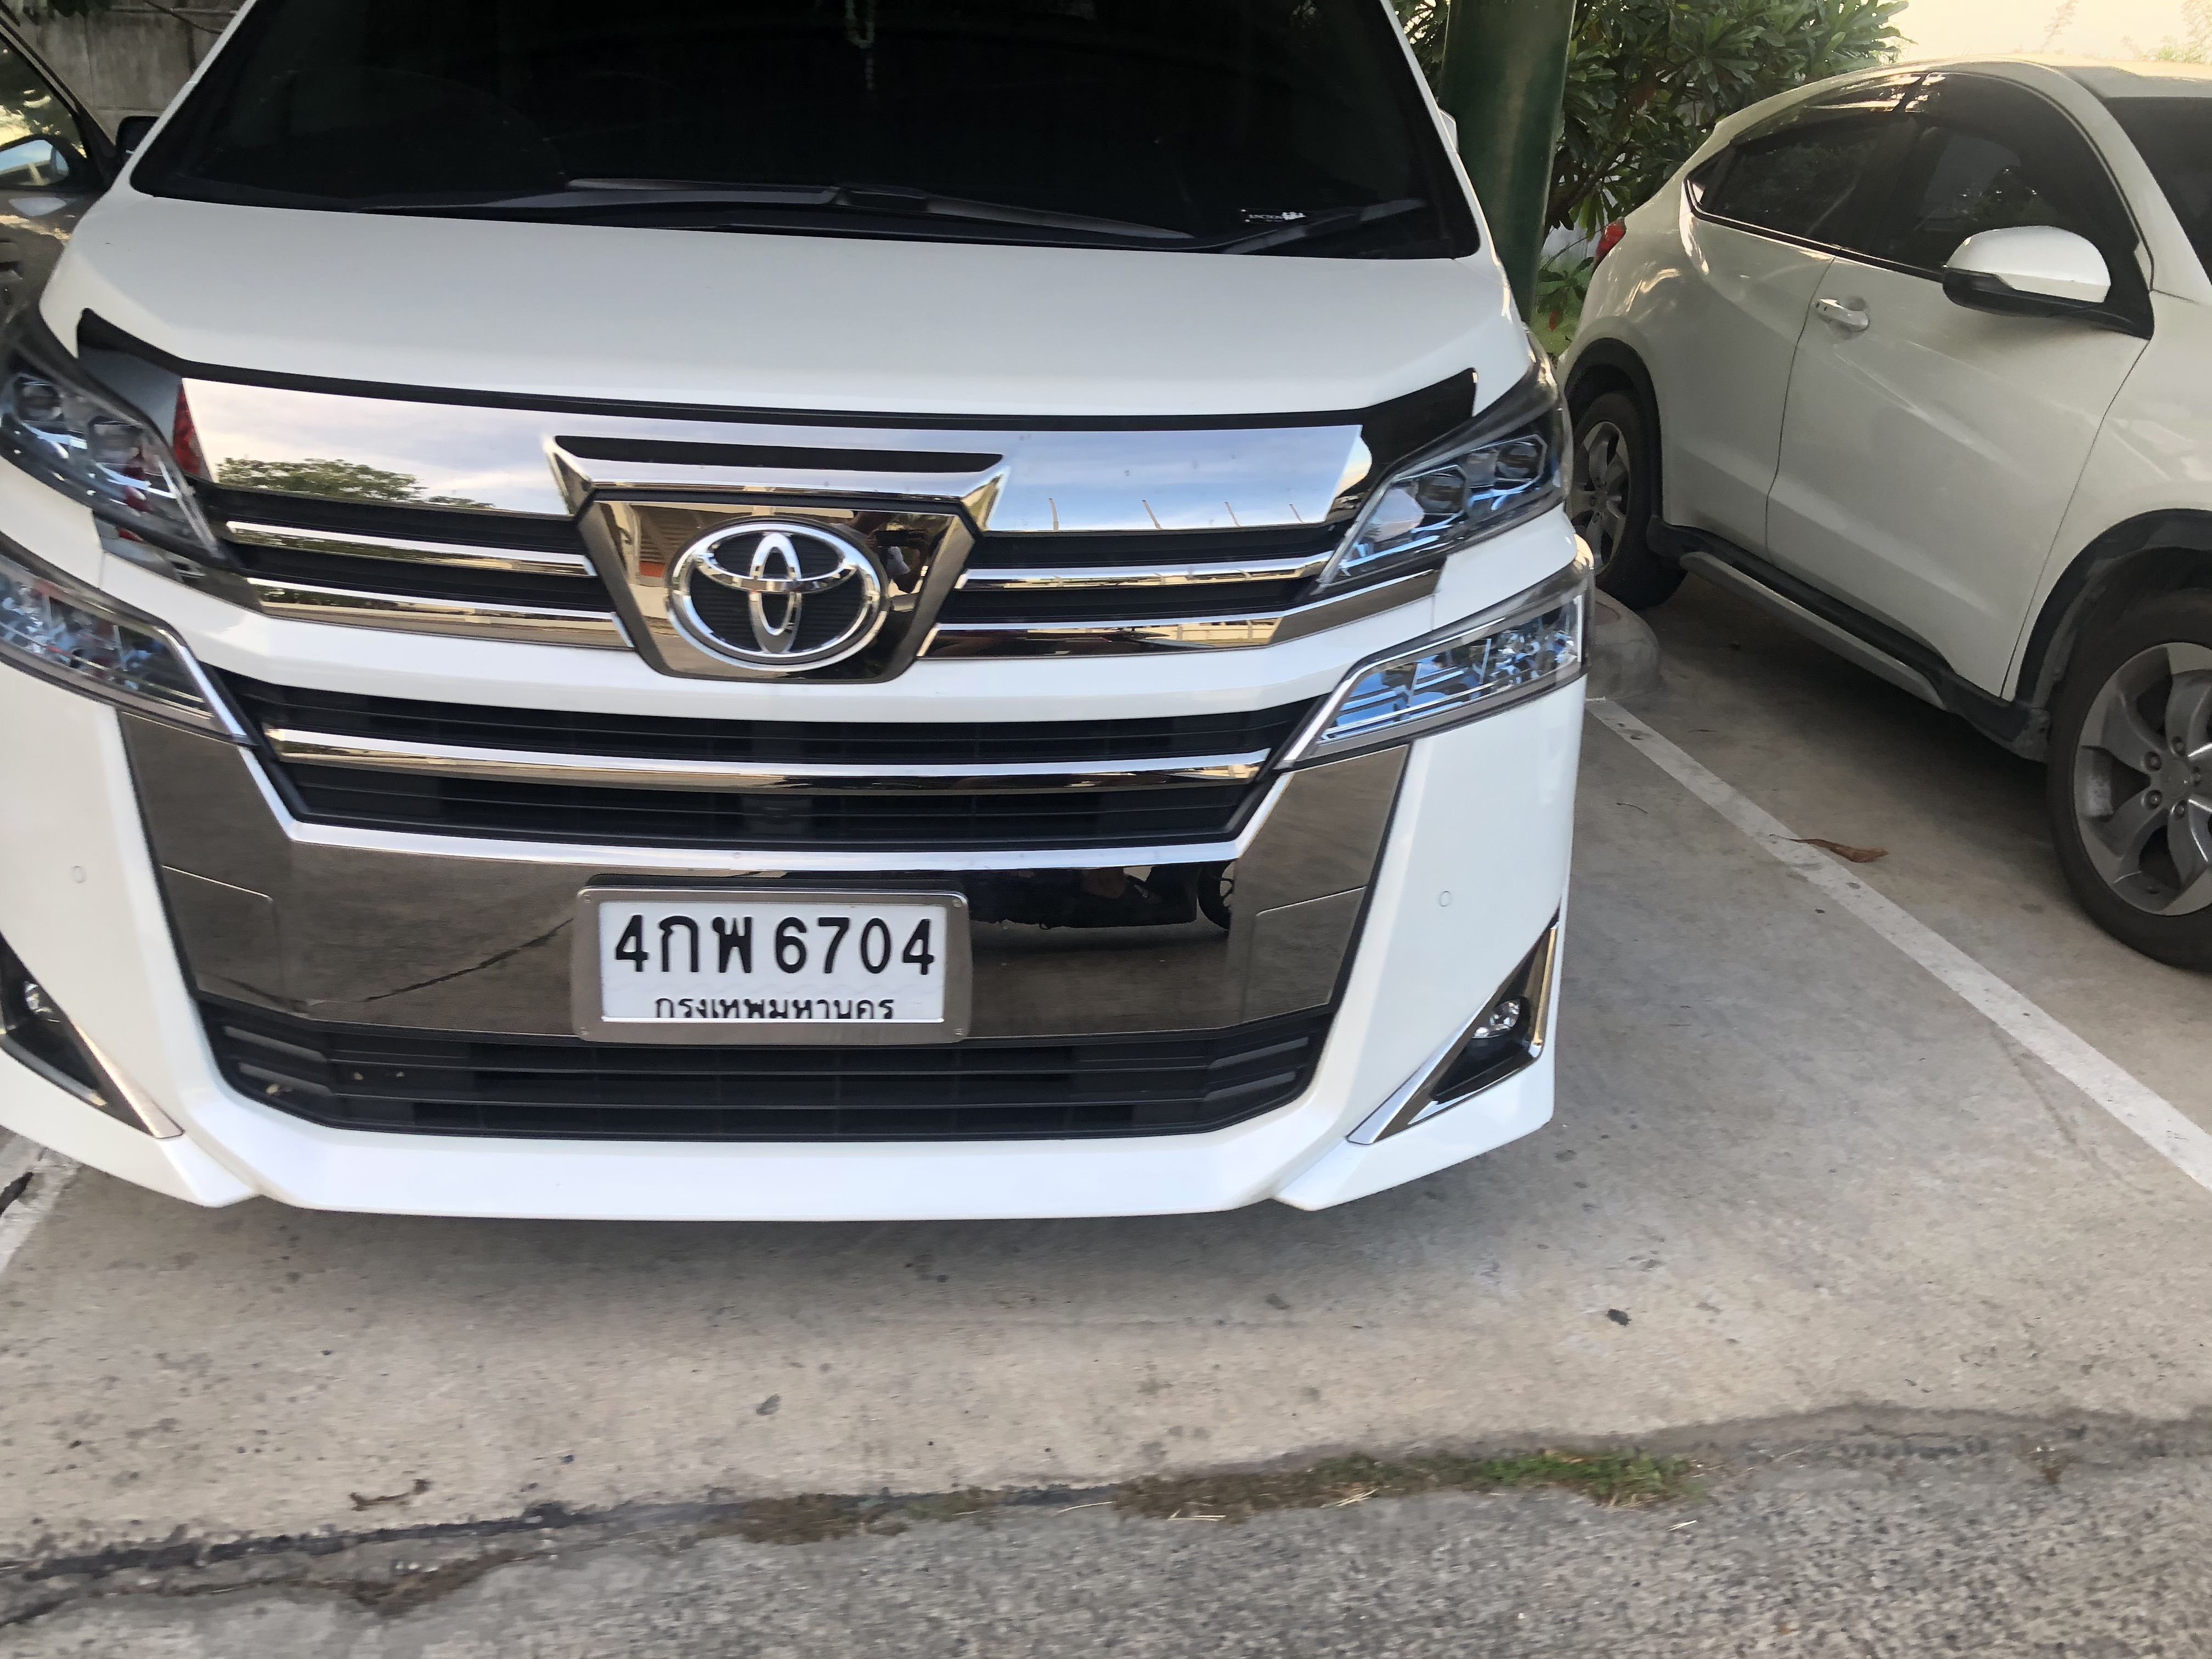in: (601, 896, 944, 1025)
out: (566, 877, 970, 1053)
